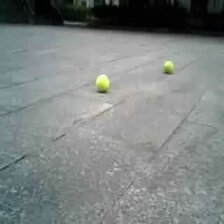tennis: (96, 74, 109, 91), (164, 61, 174, 72)
